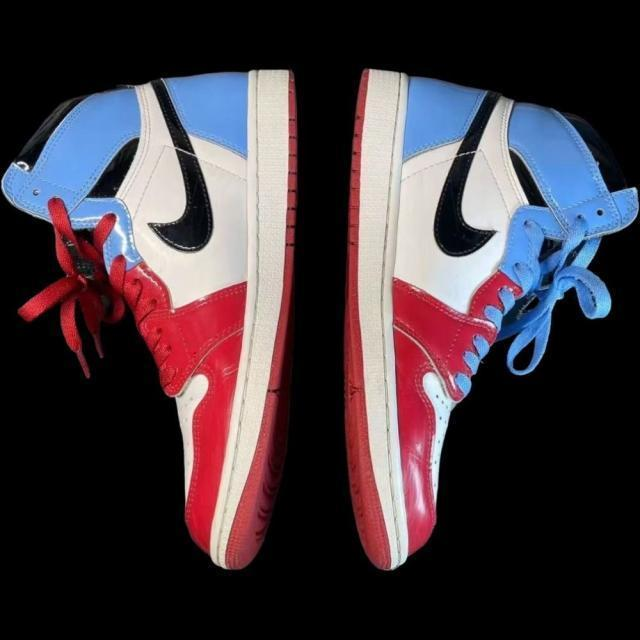nike original jordan 1: (0, 60, 318, 572), (347, 66, 640, 572)
